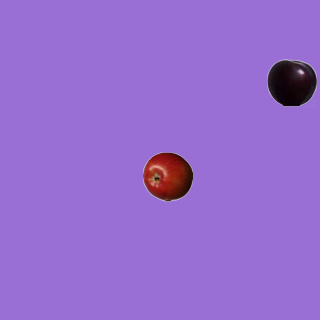Apple Braeburn: (142, 151, 192, 201)
Cherry Wax Black: (266, 57, 316, 107)
